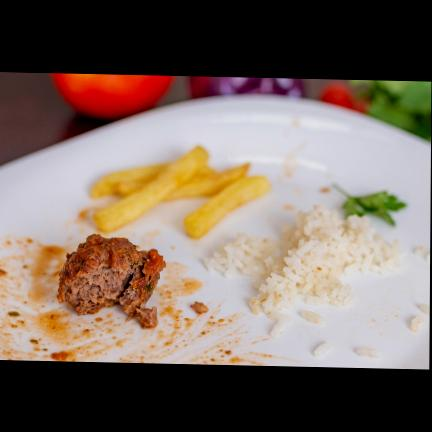meat: (57, 234, 166, 328)
potato: (91, 146, 270, 238)
rice: (204, 205, 404, 337), (301, 310, 326, 324), (314, 341, 332, 356), (410, 315, 424, 332), (356, 348, 381, 357), (414, 247, 430, 261), (418, 303, 430, 315)
